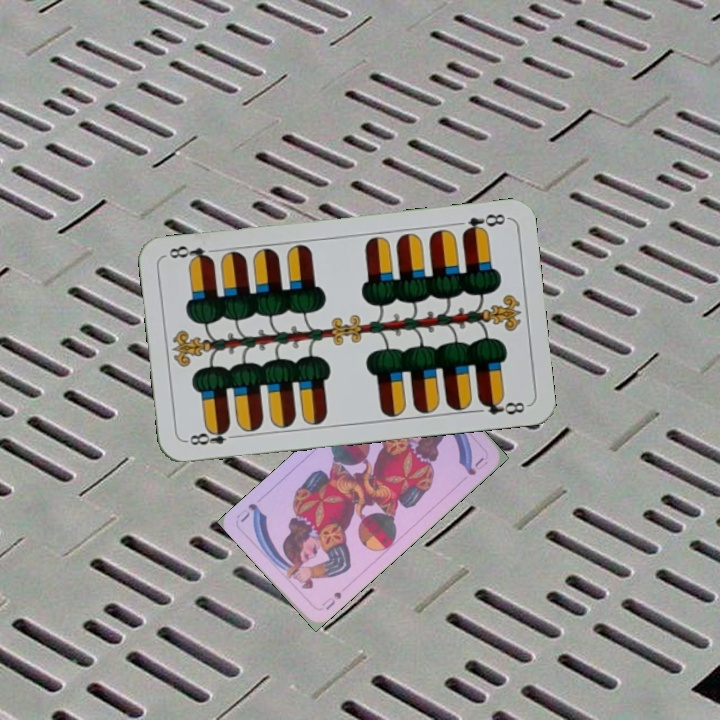E8: (458, 209, 510, 238), (182, 423, 241, 448)
SU: (317, 588, 344, 613)
